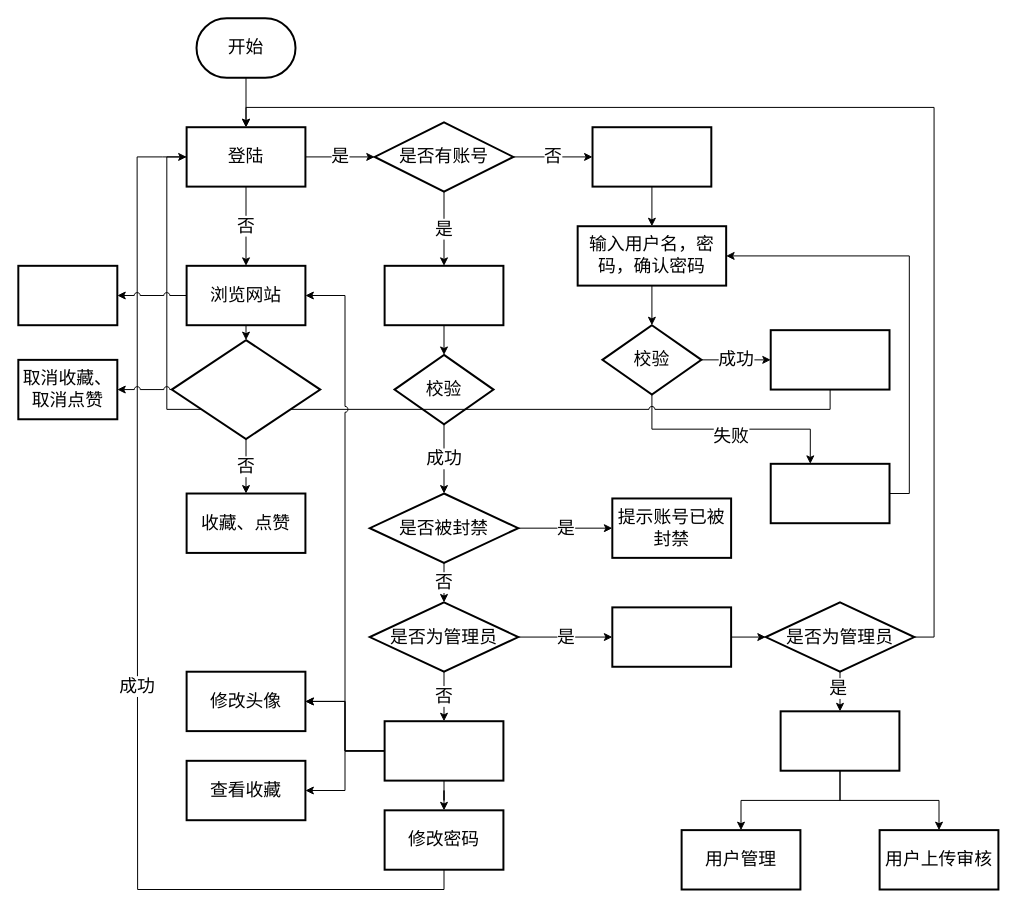
This 1016x908 diagram has some shape labels left out. Each missing label, with the box of its shape:
提示输入内容不合规范: (769, 462, 890, 524)
是否点赞、收藏: (170, 339, 321, 440)
注册成功: (769, 329, 890, 390)
注册账号: (591, 126, 712, 187)
登陆成功: (383, 720, 504, 781)
管理员系统: (779, 710, 900, 771)
评论: (17, 264, 118, 326)
跳转到管理员系统: (611, 606, 732, 667)
输入用户名，密码: (383, 264, 504, 326)
